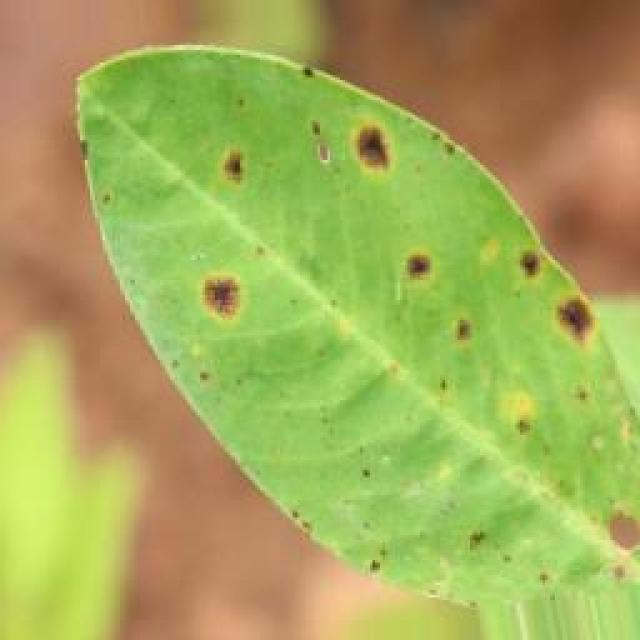Sigatoka: (506, 234, 613, 384), (296, 110, 426, 206), (280, 482, 397, 572), (458, 513, 563, 586), (192, 255, 279, 337), (164, 337, 246, 424), (187, 123, 261, 210), (582, 460, 640, 560), (437, 293, 506, 376), (387, 237, 478, 297), (282, 43, 342, 113), (344, 429, 416, 485), (82, 180, 138, 251), (497, 387, 563, 446), (582, 547, 634, 582), (580, 423, 612, 469)
